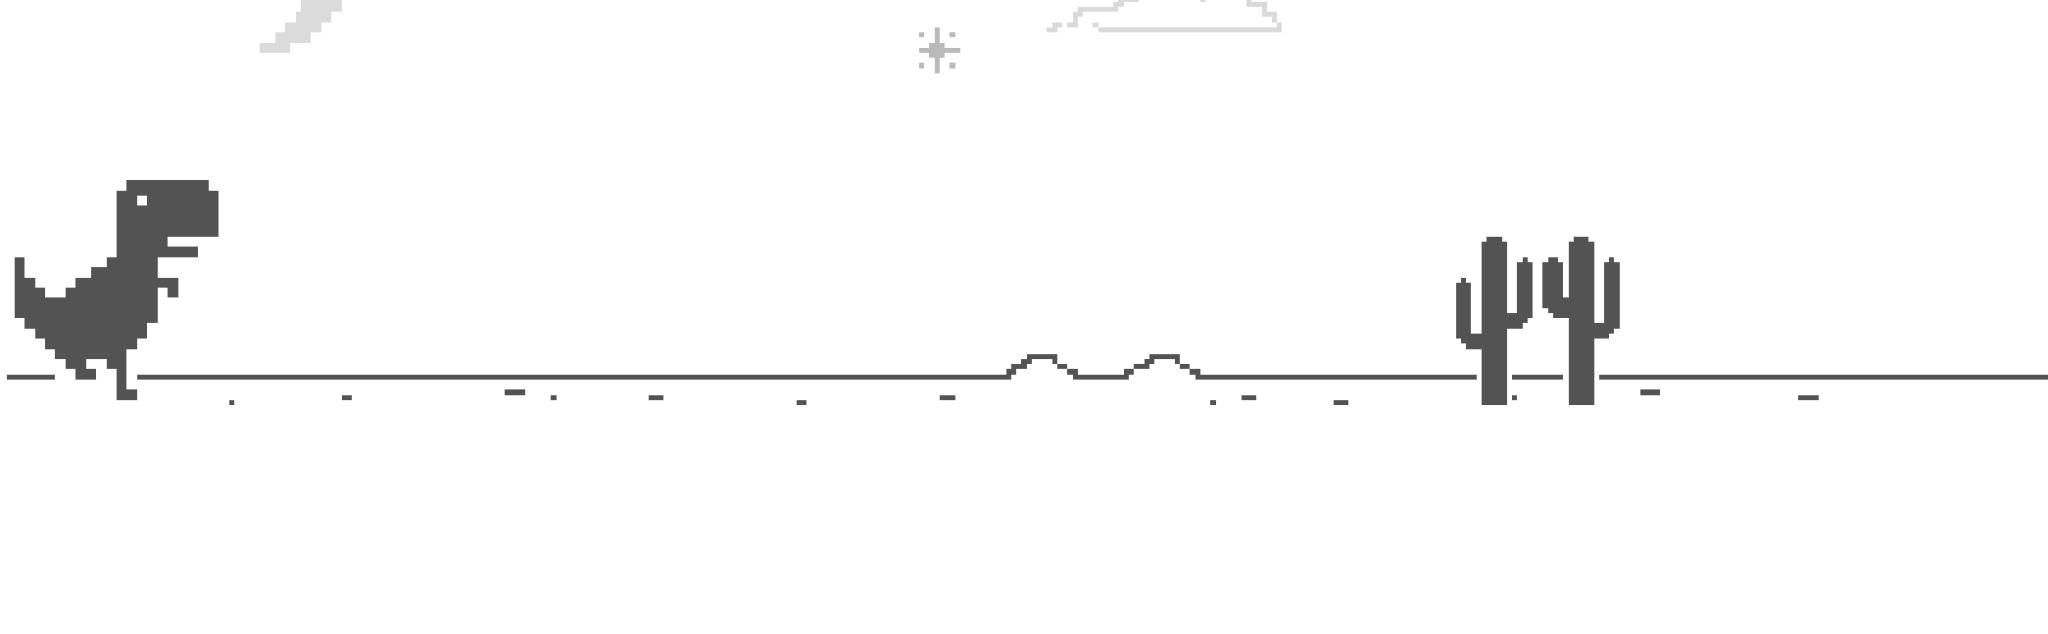6: (9, 171, 226, 405)
dead-t-rex: (1452, 229, 1626, 413)
